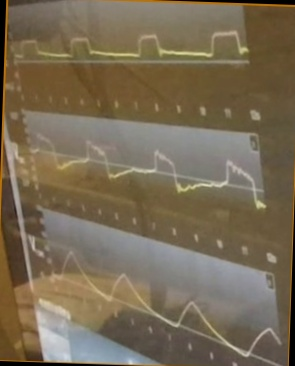Accumulation Flow: (31, 130, 266, 211)
Volume: (55, 248, 281, 359)
